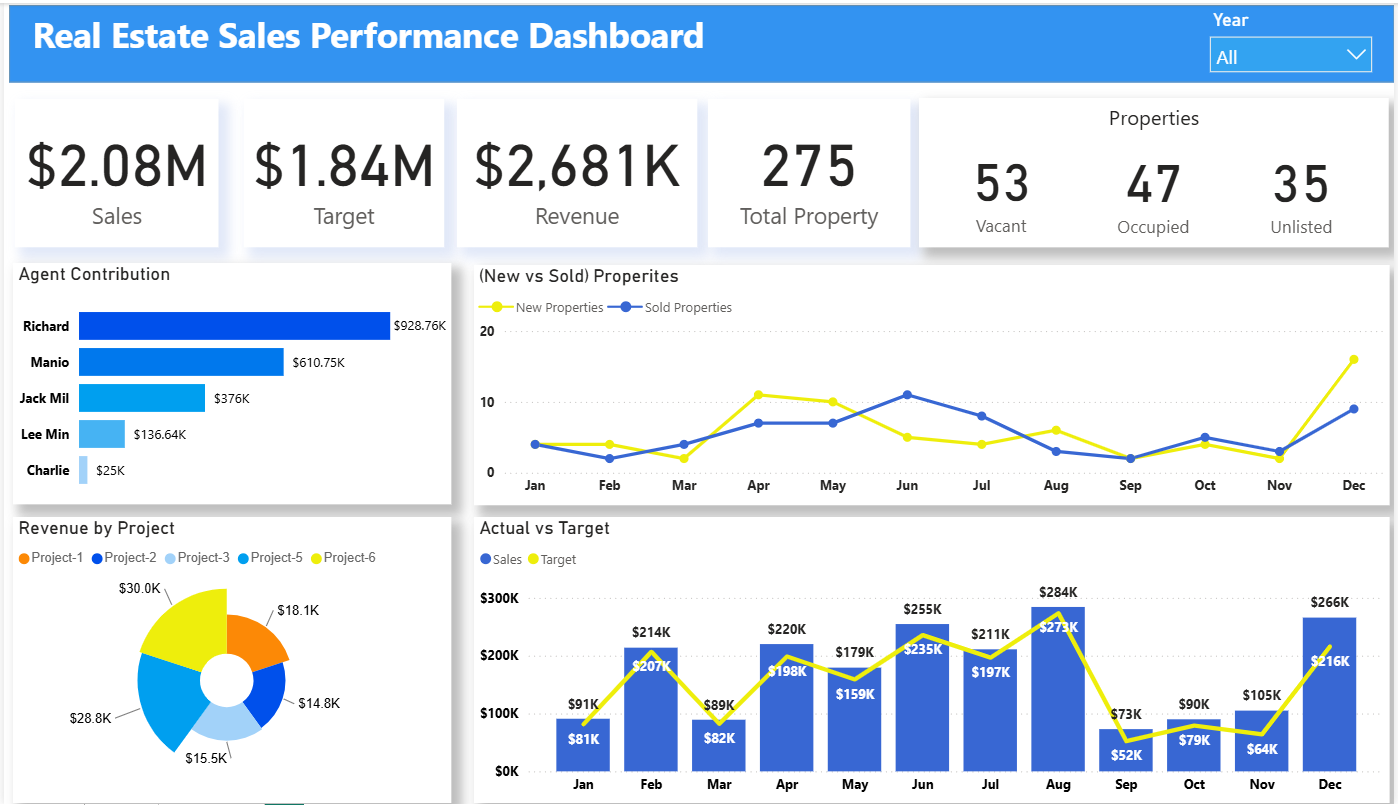

This screenshot's page, from the dashboard's own definition file:
{"tool":"powerbi","page":{"name":"Home","canvas":[1285,741],"ordinal":0},"visuals":[{"type":"shape","box":[5,1.7,1280,71.7],"z":0},{"type":"textbox","box":[21.7,1.7,720,65],"z":1000},{"type":"card","fields":{"Values":["Sum(Real Estate Data.Sales)"]},"box":[10,88.3,188.3,136.7],"z":2000},{"type":"card","fields":{"Values":["Sum(Real Estate Data.Target)"]},"box":[221.7,88.3,185,136.7],"z":3000},{"type":"card","fields":{"Values":["Sum(Real Estate Data.Revenue)"]},"box":[418.3,88.3,221.7,136.7],"z":4000},{"type":"card","fields":{"Values":["Sum(Real Estate Data.Total Property)"]},"box":[650,88.3,186.7,136.7],"z":5000},{"type":"textbox","box":[845.5,87.5,434.5,137.5],"z":6000},{"type":"card","fields":{"Values":["CountNonNull(Real Estate Data.Property Status)"]},"box":[857.6,119.8,127.8,101.2],"z":7000},{"type":"card","fields":{"Values":["CountNonNull(Real Estate Data.Property Status)"]},"box":[998.7,121.2,126.5,101.2],"z":8000},{"type":"card","fields":{"Values":["CountNonNull(Real Estate Data.Property Status)"]},"box":[1135.9,121.2,126.5,101.2],"z":9000},{"type":"clusteredBarChart","title":"Agent Contribution","fields":{"Category":["Real Estate Data.Agent"],"Y":["Sum(Real Estate Data.Sales)"]},"box":[8.3,240,405,223.3],"z":10000},{"type":"lineChart","title":"(New vs Sold) Properites","fields":{"Category":["Real Estate Data.Month Name"],"Y":["CountNonNull(Real Estate Data.Properites)"],"Series":["Real Estate Data.Properites"]},"box":[434.5,242.2,845.5,221.9],"z":11000},{"type":"AsterPlot1443303142064","title":"Revenue by Project","fields":{"Category":["Real Estate Data.Project Name"],"Y":["Avg(Real Estate Data.Revenue)"]},"box":[8.3,475,405,265],"z":12000},{"type":"lineStackedColumnComboChart","title":"Actual vs Target","fields":{"Category":["Real Estate Data.Month Name"],"Y":["Sum(Real Estate Data.Sales)"],"Y2":["Sum(Real Estate Data.Target)"]},"box":[434,475,846,265],"z":13000},{"type":"slicer","fields":{"Values":["Real Estate Data.Year"]},"box":[1104.3,0,170,67.1],"z":14000}]}

Visuals, with their boxes in screenshot pixels (x1, y1, x2, y2), scaled from the page's 1285x741 canvas onto the 1398x805 screenshot:
shape: (left=5, top=2, right=1397, bottom=80)
textbox: (left=24, top=2, right=807, bottom=72)
card - Sum(Real Estate Data.Sales): (left=11, top=96, right=216, bottom=244)
card - Sum(Real Estate Data.Target): (left=241, top=96, right=442, bottom=244)
card - Sum(Real Estate Data.Revenue): (left=455, top=96, right=696, bottom=244)
card - Sum(Real Estate Data.Total Property): (left=707, top=96, right=910, bottom=244)
textbox: (left=920, top=95, right=1393, bottom=244)
card - CountNonNull(Real Estate Data.Property Status): (left=933, top=130, right=1072, bottom=240)
card - CountNonNull(Real Estate Data.Property Status): (left=1087, top=132, right=1224, bottom=242)
card - CountNonNull(Real Estate Data.Property Status): (left=1236, top=132, right=1373, bottom=242)
"Agent Contribution" clusteredBarChart: (left=9, top=261, right=450, bottom=503)
"(New vs Sold) Properites" lineChart: (left=473, top=263, right=1393, bottom=504)
"Revenue by Project" AsterPlot1443303142064: (left=9, top=516, right=450, bottom=804)
"Actual vs Target" lineStackedColumnComboChart: (left=472, top=516, right=1393, bottom=804)
slicer - Real Estate Data.Year: (left=1201, top=0, right=1386, bottom=73)
